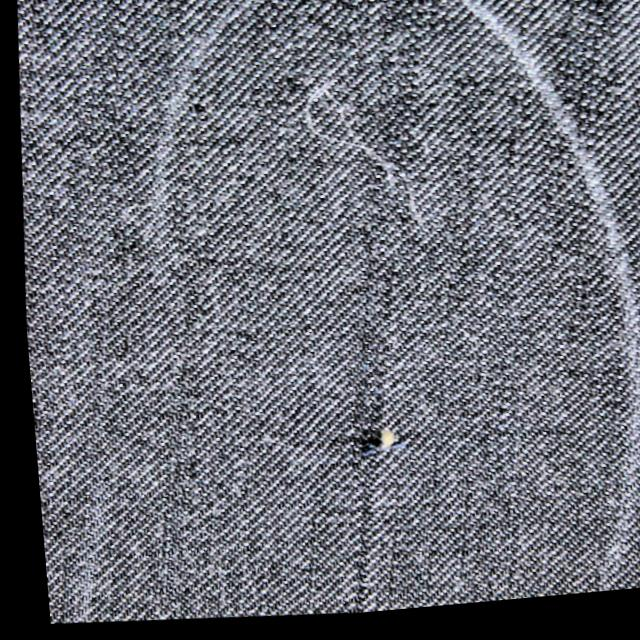Hole: (345, 429, 401, 462)
